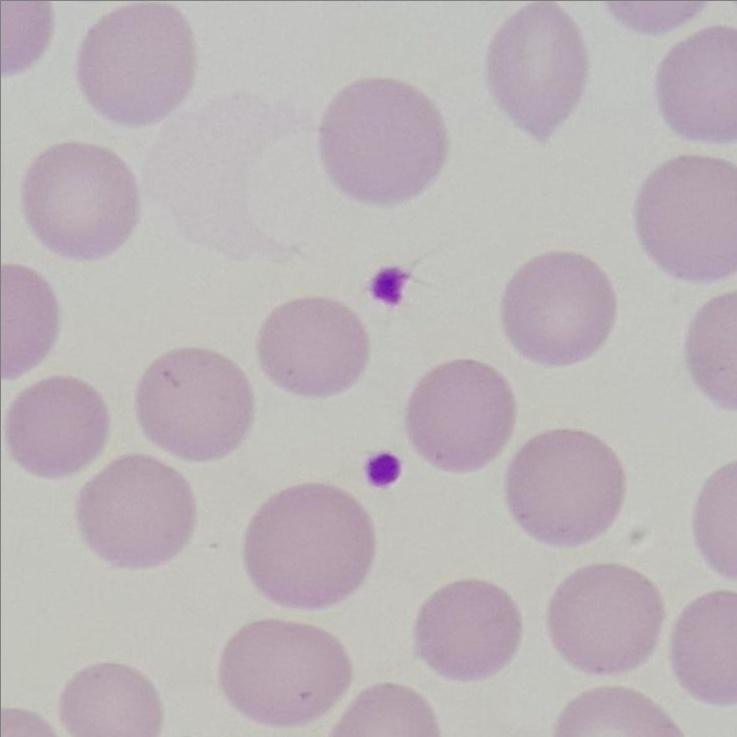Uninfected: (244, 483, 380, 609), (77, 0, 197, 129), (321, 80, 446, 203), (220, 617, 353, 729), (486, 0, 586, 146), (506, 426, 625, 546), (20, 142, 140, 260), (134, 349, 257, 462), (500, 250, 617, 364), (77, 457, 197, 566), (634, 159, 737, 282), (551, 563, 662, 673), (409, 359, 514, 470), (413, 577, 523, 681), (260, 300, 373, 401), (7, 376, 108, 480), (654, 19, 737, 140), (59, 660, 165, 737)
